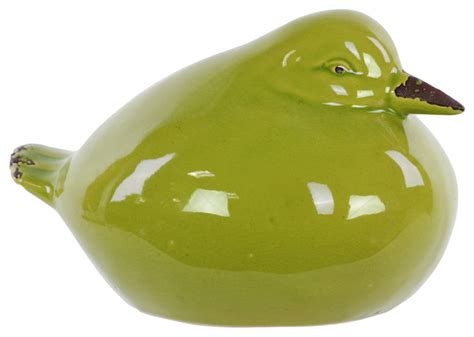???: (8, 8, 465, 328)
